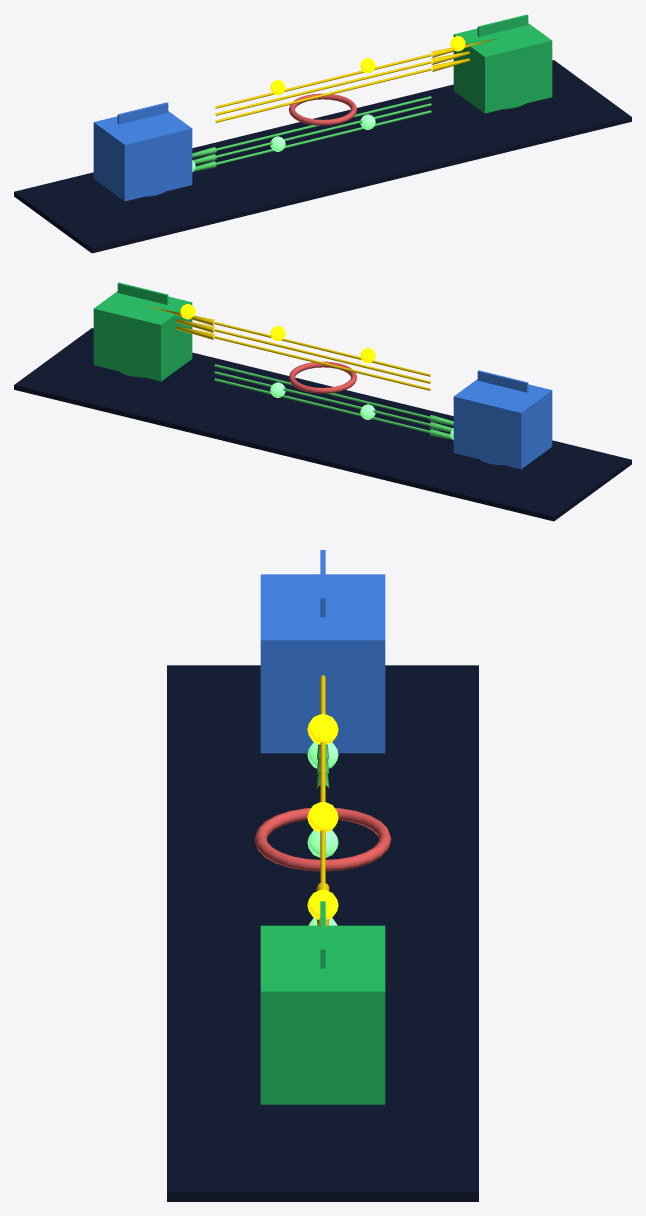
Rendered from icmp_ping_blinded.glb.
3 views of the same model, one above another, from view 1: azimuth 30°, elevation 25°; view 2: azimuth 150°, elevation 25°; view 3: azimuth 270°, elevation 25° (orthographic). The views are drawn at different scales.
Visible parts, largest first — view 1: Platform, Host_A, Host_B, Request_2, Request_1, RTT_Meter, Request_0, Reply_1, Reply_2, Reply_0, HostA_Label, HostB_Label; view 2: Platform, Host_A, Host_B, Request_2, Request_1, RTT_Meter, Request_0, Reply_1, Reply_2, Reply_0, HostA_Label, HostB_Label; view 3: Platform, Host_B, Host_A, RTT_Meter, Request_0.
Boxes of the visible parts, x1,y1,x2,y2 form: Platform: [14, 60, 631, 253]; Host_A: [93, 111, 192, 201]; Host_B: [453, 23, 552, 113]; Request_2: [215, 58, 469, 122]; Request_1: [215, 51, 469, 115]; RTT_Meter: [288, 93, 357, 125]; Request_0: [215, 38, 499, 108]; Reply_1: [193, 103, 431, 164]; Reply_2: [193, 110, 431, 171]; Reply_0: [192, 96, 431, 157]; HostA_Label: [117, 102, 168, 124]; HostB_Label: [477, 14, 528, 36]; Platform: [14, 328, 631, 521]; Host_A: [453, 379, 552, 469]; Host_B: [93, 291, 192, 381]; Request_2: [176, 326, 430, 390]; Request_1: [176, 319, 430, 383]; RTT_Meter: [288, 361, 357, 393]; Request_0: [146, 306, 430, 376]; Reply_1: [214, 371, 452, 432]; Reply_2: [214, 378, 452, 439]; Reply_0: [214, 364, 453, 425]; HostA_Label: [477, 370, 528, 392]; HostB_Label: [117, 282, 168, 304]; Platform: [167, 665, 478, 1201]; Host_B: [260, 925, 385, 1104]; Host_A: [260, 574, 385, 753]; RTT_Meter: [254, 808, 391, 871]; Request_0: [316, 675, 329, 927].
Bounding box in the file's own units: 12 × 2 × 3.
